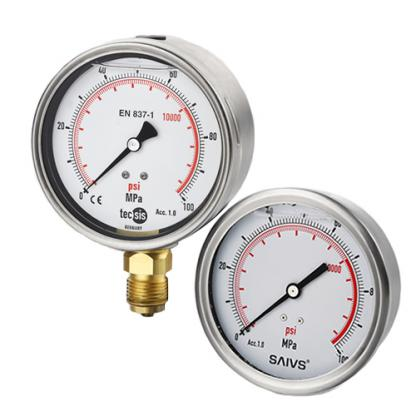needle: (238, 293, 290, 335), (86, 146, 133, 191)
